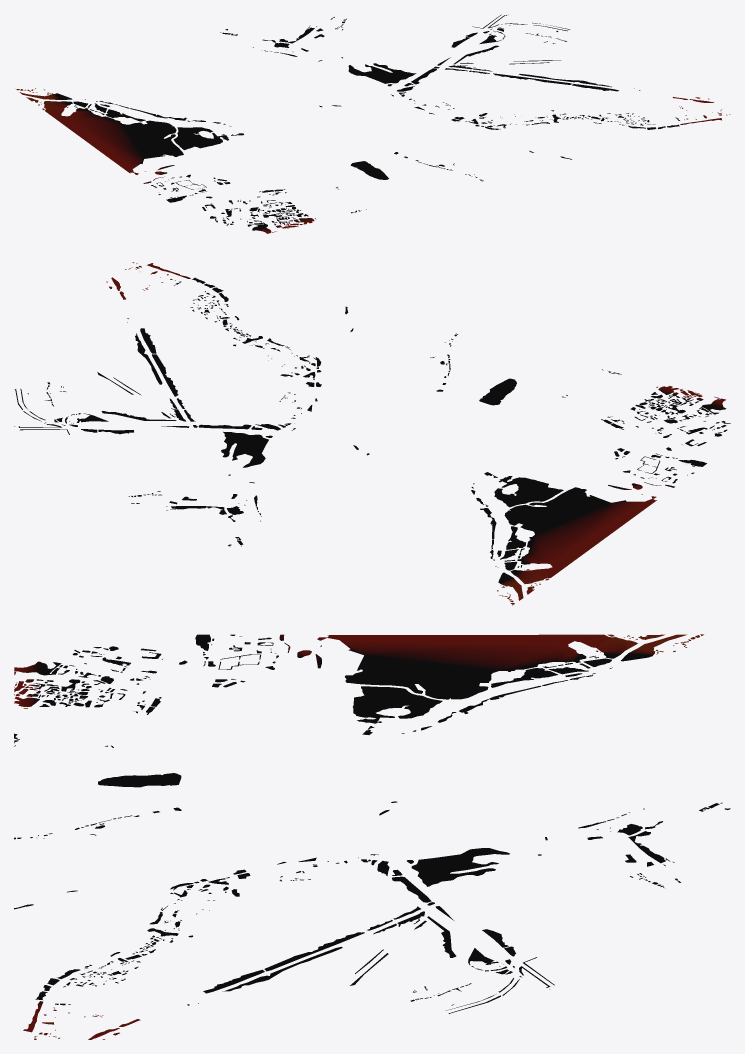
File: SM_Lake_Hanoi_01.fbx
3 renders of one model, top to bottom at view 1: azimuth 30°, elevation 25°; view 2: azimuth 150°, elevation 25°; view 3: azimuth 270°, elevation 25°, orthographic. The views are drawn at different scales.
Parts seen in each view (by area): view 1: Lakes; view 2: Lakes; view 3: Lakes.
Boxes of the visible parts, x1,y1,x2,y2 form: Lakes: (16,14,730,233); Lakes: (14,262,730,605); Lakes: (14,634,730,1039).
Bounding box in the file's own units: 718662 × 2066 × 537332.
